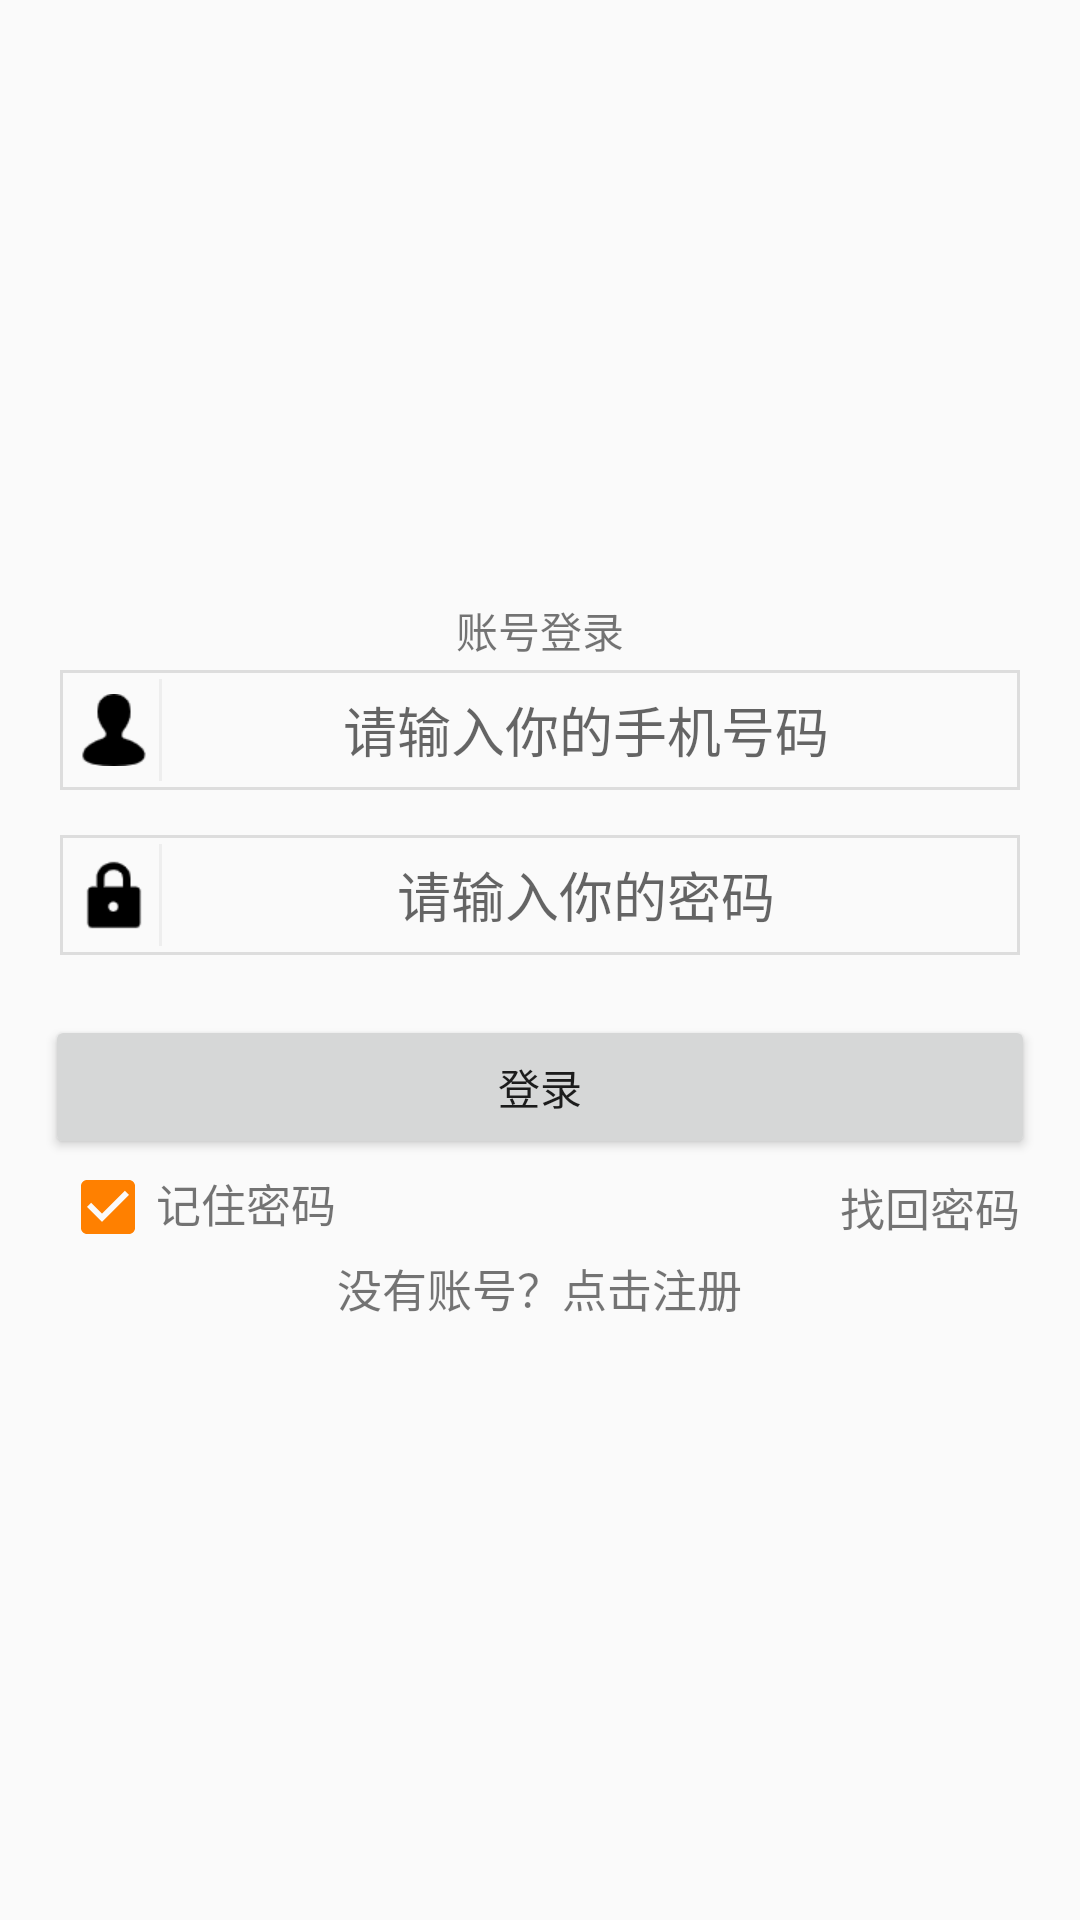

Screen size 1080px x 1920px. Icon name, then its center in pixels as point (x, y):
account login: point (114, 730)
password login: point (114, 895)
